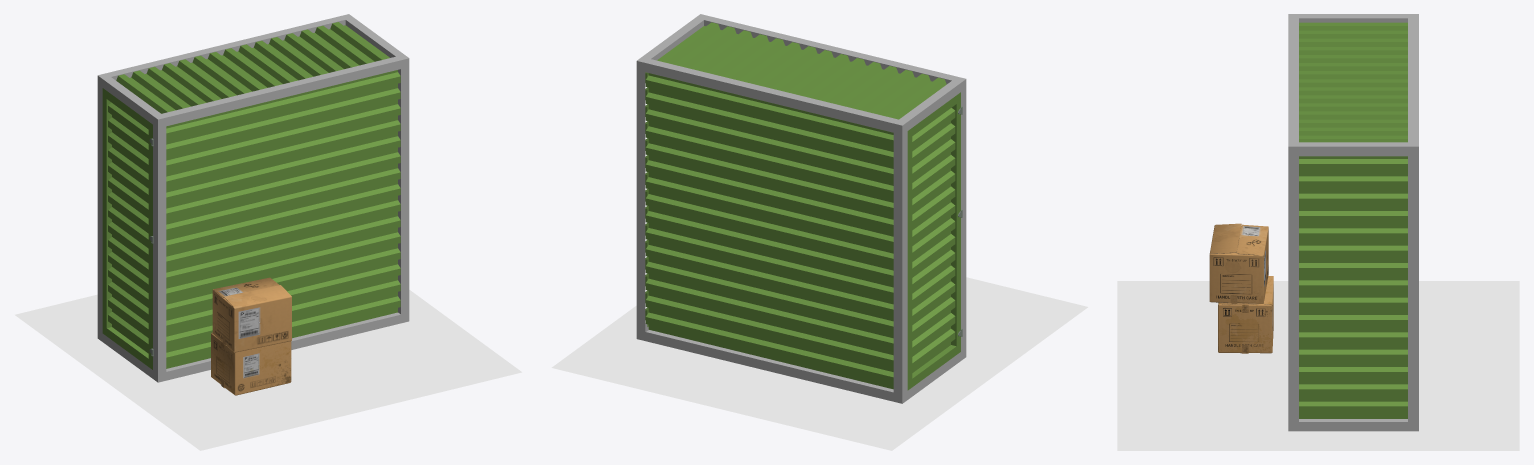
File: XXS.glb
3 renders of one model, left to right at view 1: azimuth 30°, elevation 25°; view 2: azimuth 150°, elevation 25°; view 3: azimuth 270°, elevation 25°, orthographic. The views are drawn at different scales.
Visible parts, largest first — view 1: Cube.034, Plane, Cube.031, Cube.032, Cube.037, Object_9, Cube.036, Object_10; view 2: Cube.035, Plane, Cube.031, Cube.032, Cube.037, Cube.036; view 3: Plane, Cube.033, Cube.031, Cube.032, Object_9, Object_10.
Part boxes in pixels (x1,y1,x2,y2): Cube.034: [166, 70, 400, 368]; Plane: [15, 290, 521, 450]; Cube.031: [97, 14, 409, 382]; Cube.032: [116, 22, 389, 113]; Cube.037: [108, 102, 148, 353]; Object_9: [212, 277, 291, 352]; Cube.036: [102, 88, 152, 369]; Object_10: [211, 332, 291, 395]; Cube.035: [645, 73, 893, 389]; Plane: [551, 277, 1087, 450]; Cube.031: [636, 14, 966, 403]; Cube.032: [657, 22, 946, 119]; Cube.037: [912, 108, 955, 372]; Cube.036: [907, 92, 960, 390]; Plane: [1117, 281, 1519, 450]; Cube.033: [1299, 156, 1407, 418]; Cube.031: [1288, 14, 1418, 431]; Cube.032: [1299, 22, 1407, 142]; Object_9: [1209, 223, 1268, 303]; Object_10: [1218, 276, 1273, 353].
Bounding box in the file's own units: 3.08 × 2.41 × 3.08.
14 materials, 3 textured.
